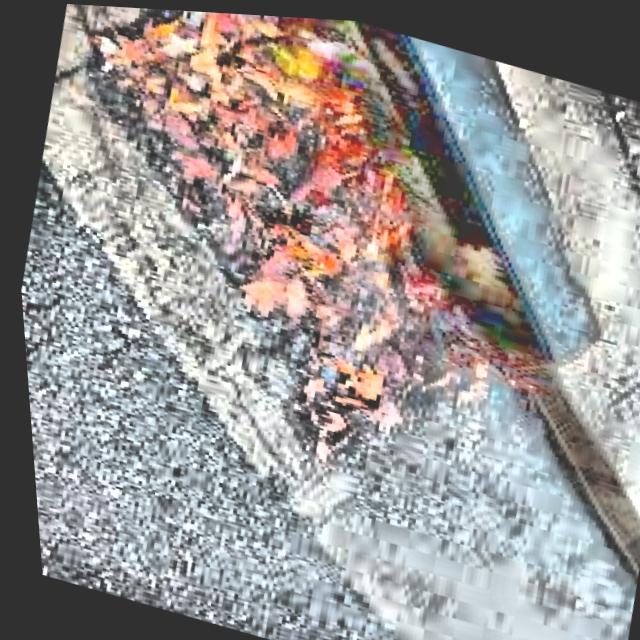clogged_drains: (90, 10, 546, 456)
